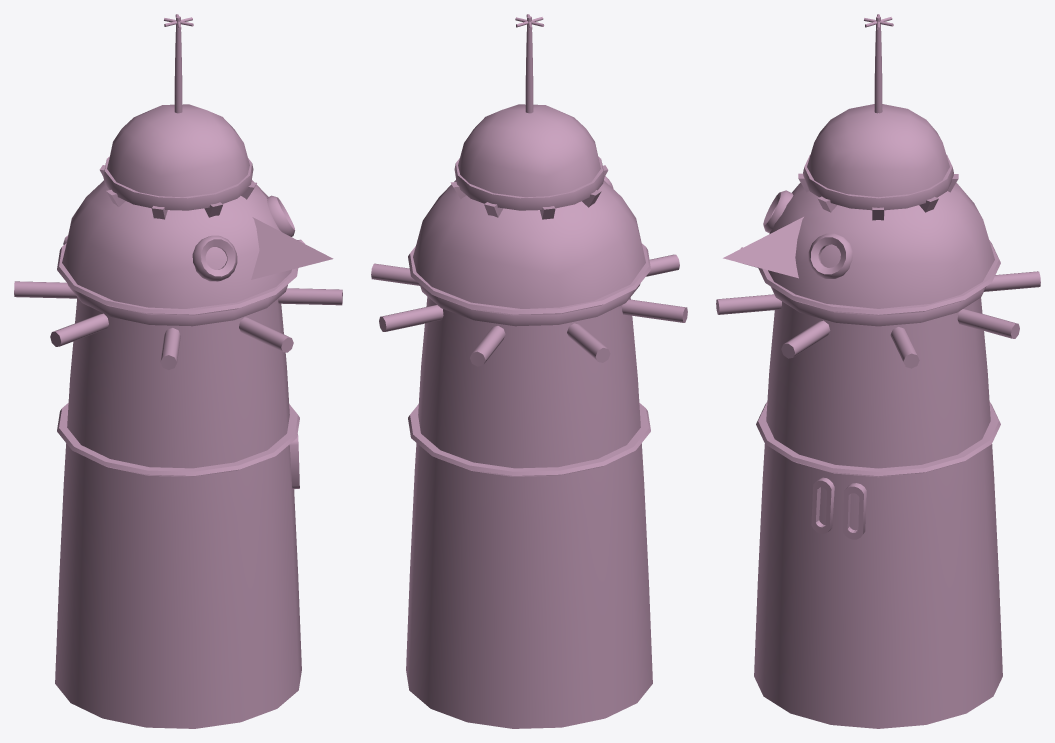
File: MESH_Tower01.fbx
The picture shows the model from 3 angles, left to right: view 1: azimuth 30°, elevation 25°; view 2: azimuth 150°, elevation 25°; view 3: azimuth 270°, elevation 25°; orthographic projection.
Parts seen in each view (by area): view 1: MESH_Tower01; view 2: MESH_Tower01; view 3: MESH_Tower01.
Part boxes in pixels (x1,y1,x2,y2): MESH_Tower01: [14, 14, 342, 728]; MESH_Tower01: [371, 14, 687, 728]; MESH_Tower01: [716, 14, 1040, 728].
Bounding box in the file's own units: 6.34 × 6.34 × 14.21.
